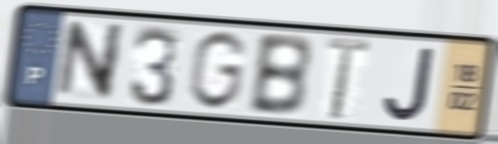3: (130, 22, 179, 110)
B: (245, 32, 315, 119)
G: (184, 28, 250, 113)
J: (381, 45, 437, 124)
N: (52, 19, 128, 103)
T: (324, 34, 373, 123)
